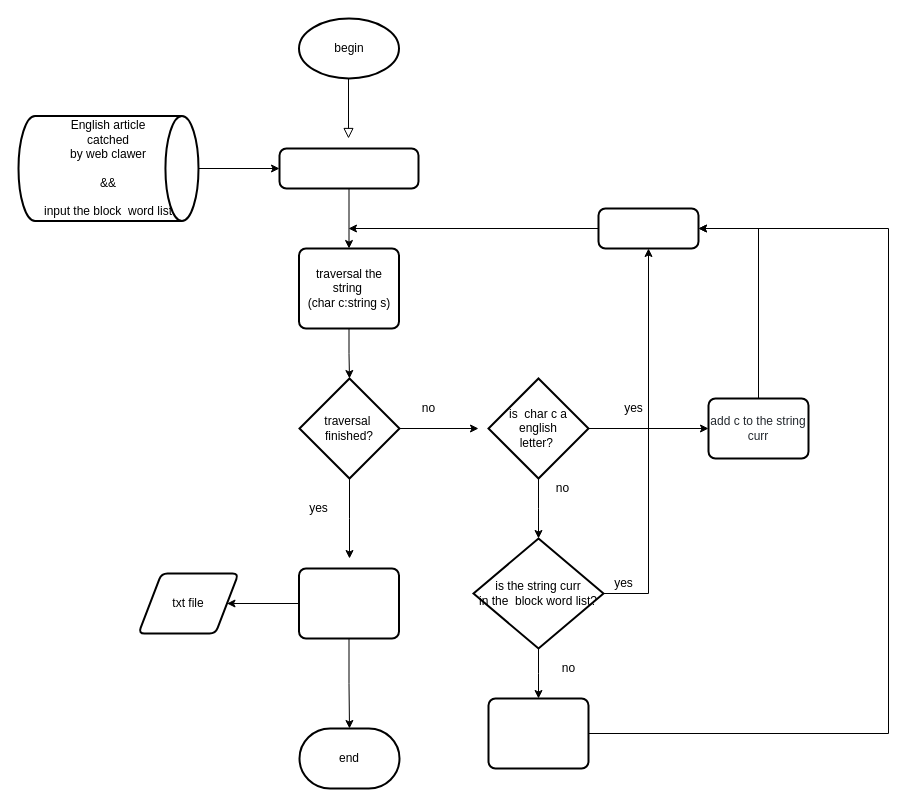
The diagram is 914 pixels wide and 806 high, and some of its shapes have lost their labels. The shapes that lost their labels are listed below. From the top down, each one's centre as x and y in pixels, then its label:
(x=348, y=168): save as string named s, create a string "curr"
(x=648, y=228): clean the string curr
(x=349, y=603): store the record data
(x=538, y=733): record the string curr 's occurrences
